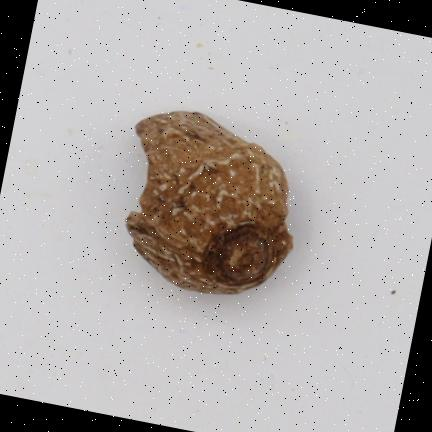husk: (126, 112, 292, 293)
